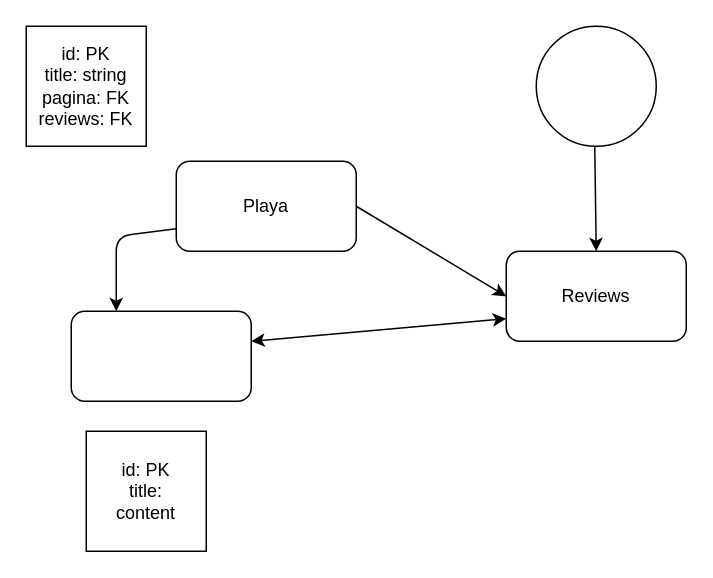
Some shapes in this 713 by 578 pixel diagram are drawn without their labels. The shapes that lost their labels are listed below. From the top down, each one's centre as x and y in pixels, then its label:
the point at 595,85: Cuentas de usuario
the point at 160,355: Pagina
